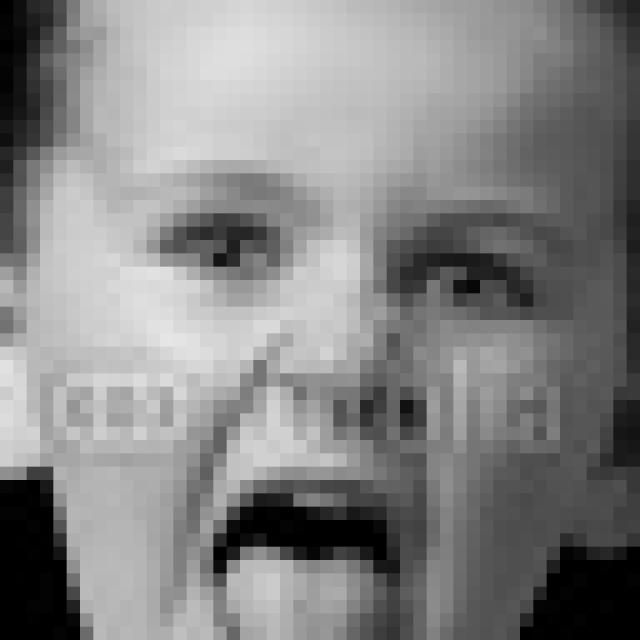disgust: (89, 164, 582, 640)
